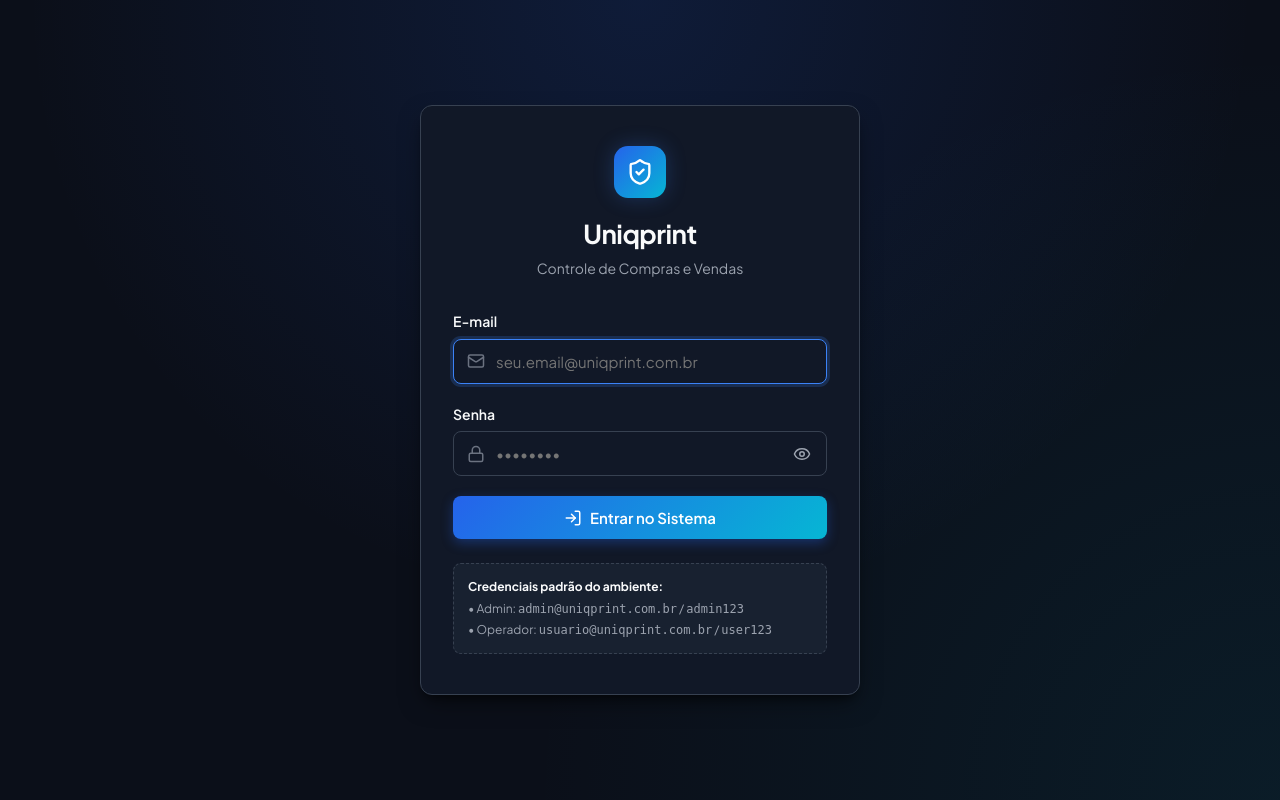
it: Tela de Login (Front-end) › deve validar formato inválido de e-mail
Type "email-invalido" into the field labelled "E-mail" at [640, 361], box [453,339,827,384]
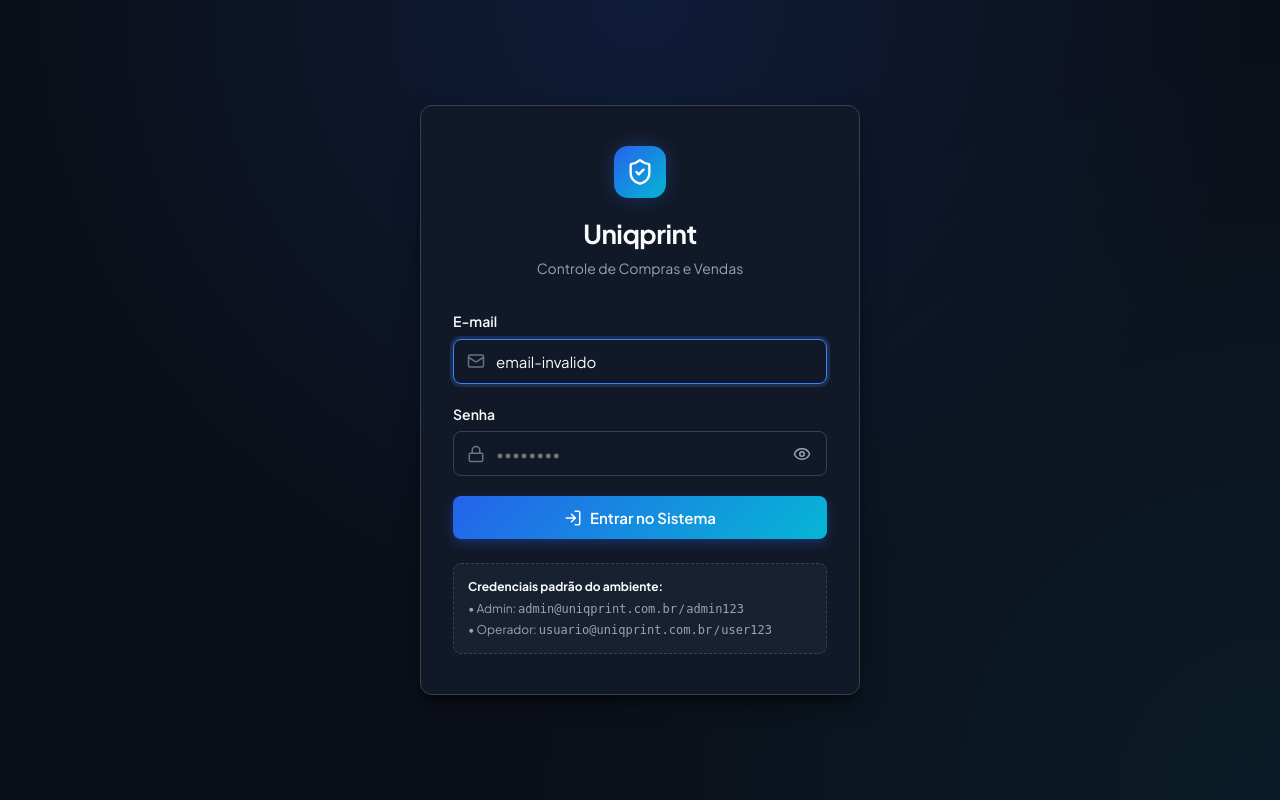
Click the button with test id "botao-entrar" at [640, 518], box [453,496,827,539]
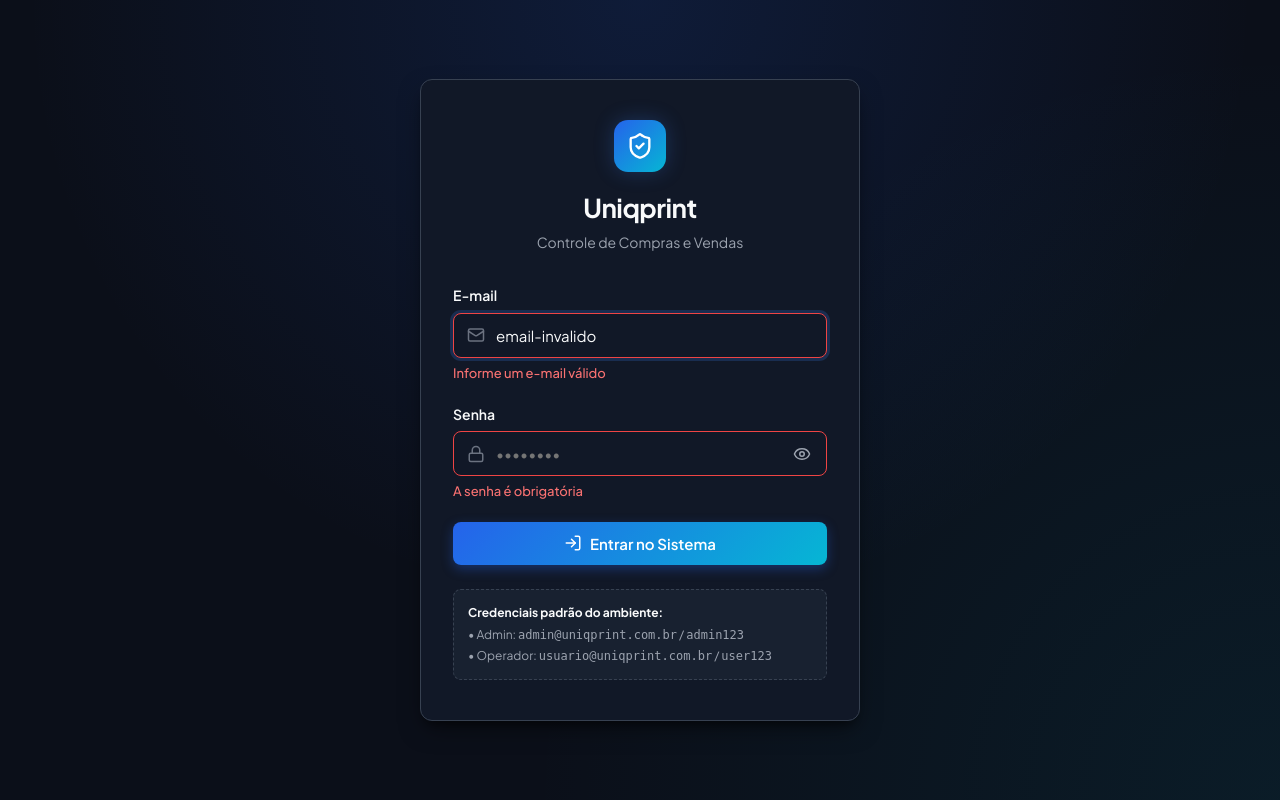
Result: the text "Informe um e-mail válido" is shown at [453,365,606,381]
